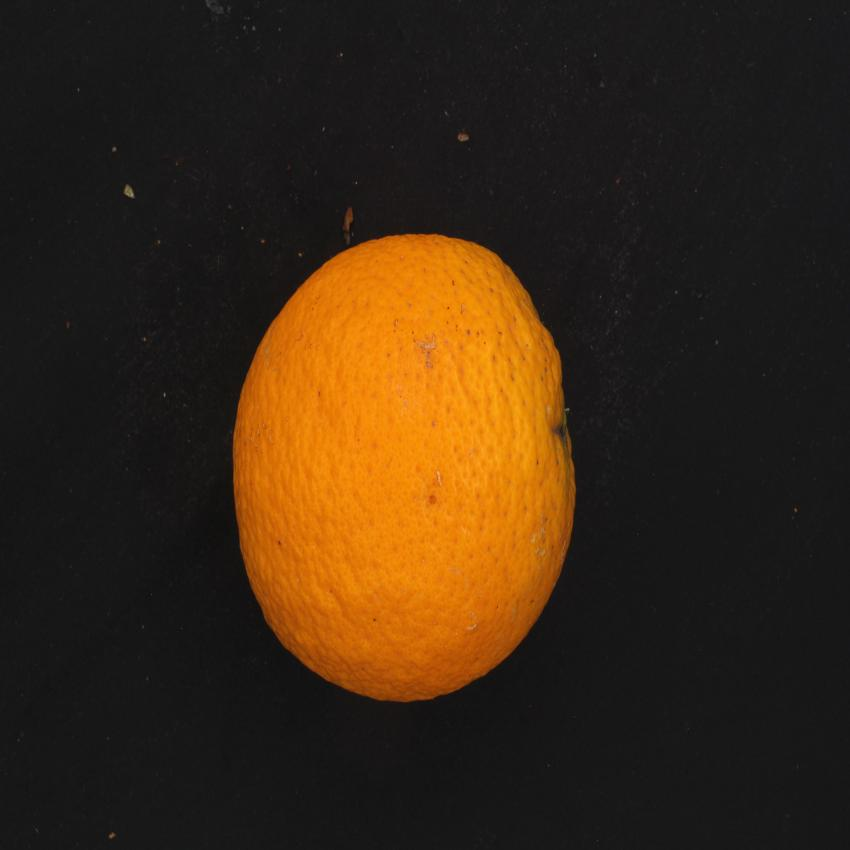Mal estado: (220, 212, 592, 712)
